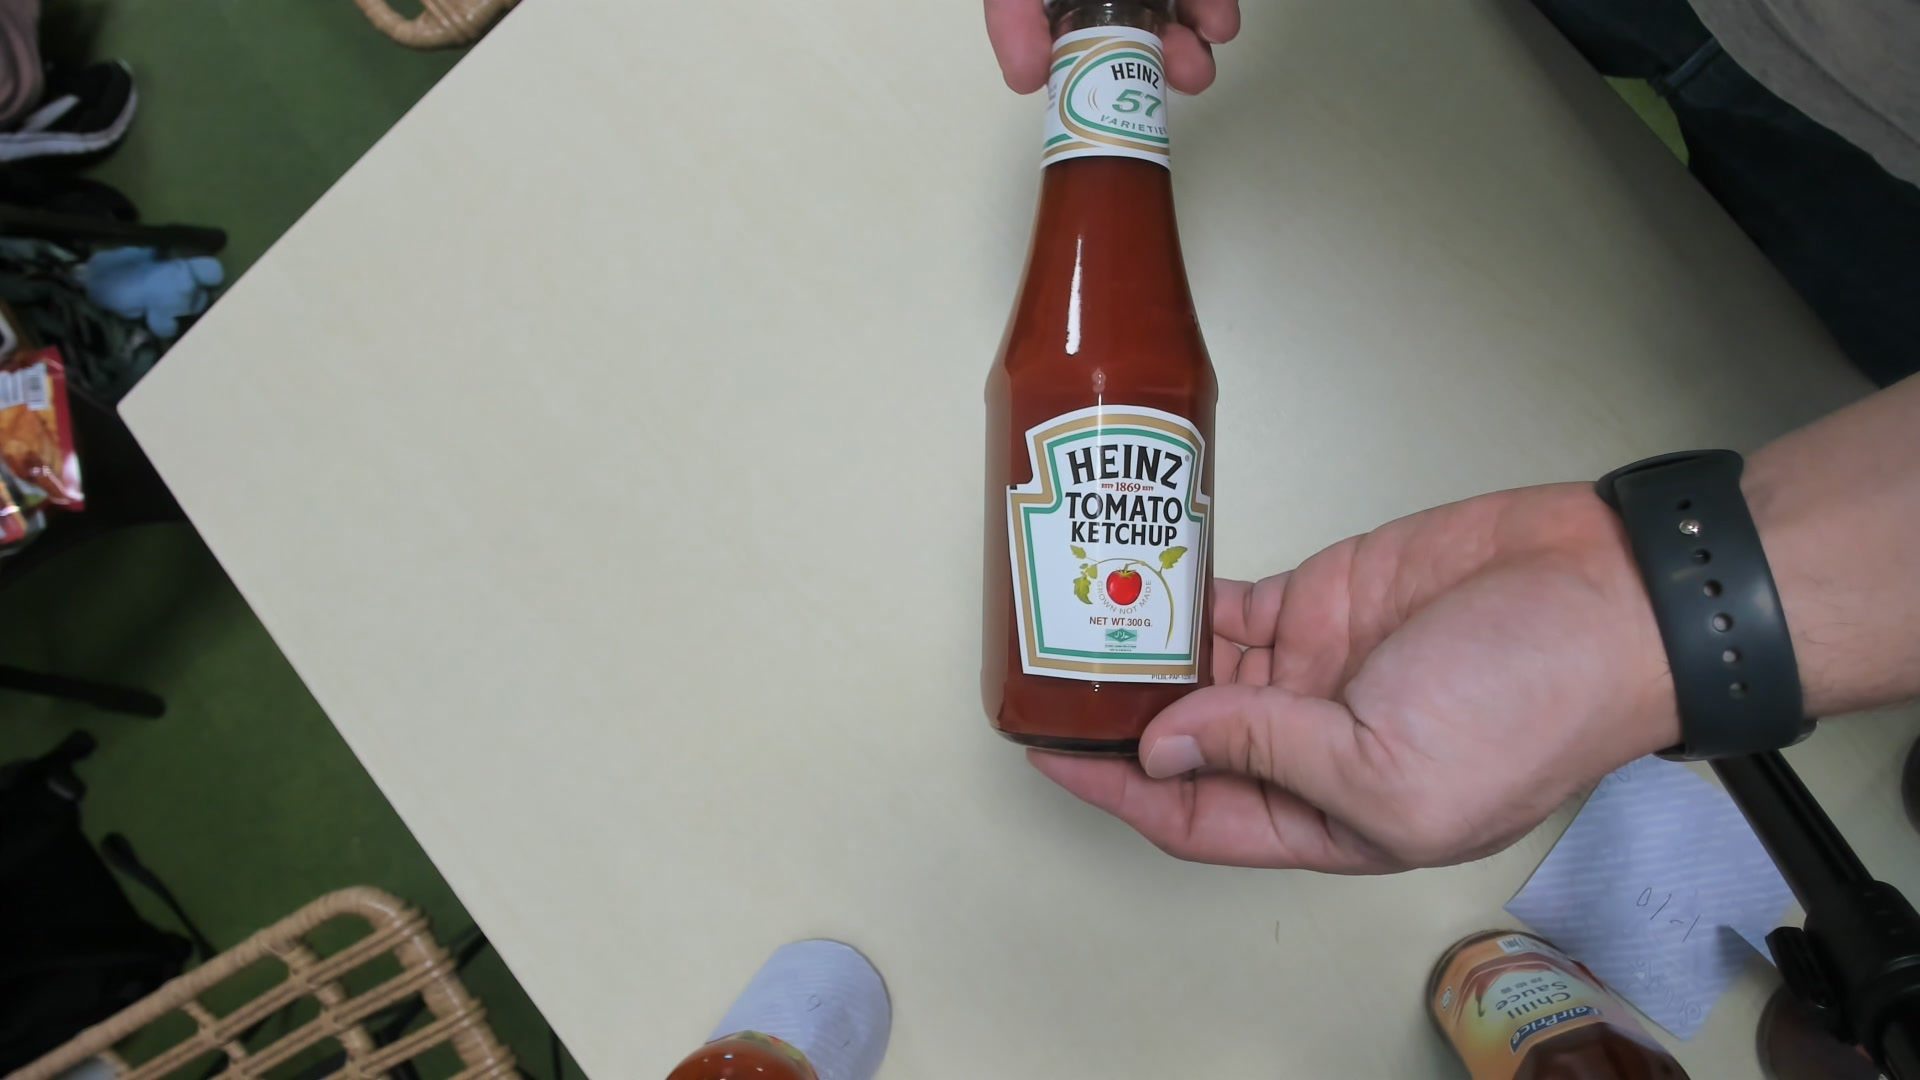KetchupChillSauce_300-399g_Halal_NonHealthy: (975, 1, 1221, 765)
